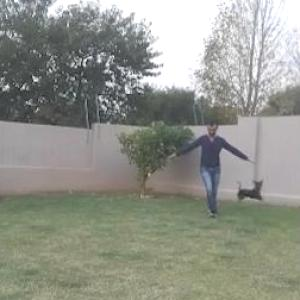land: (152, 109, 244, 218)
